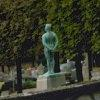Statue: (29, 17, 71, 76)
